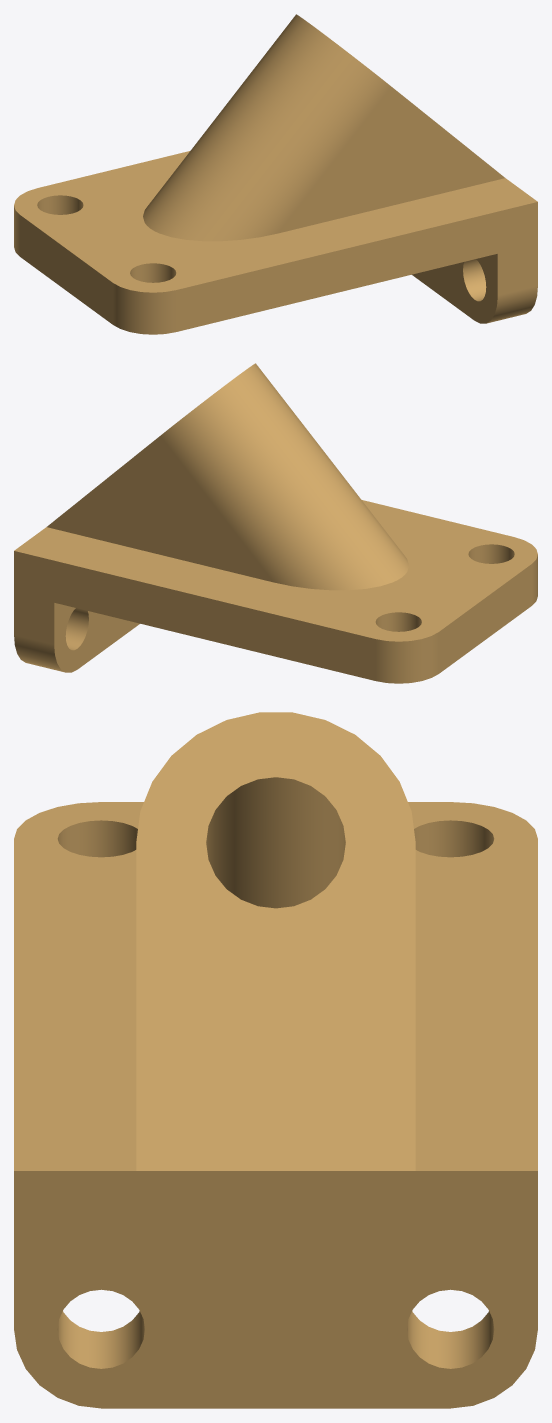
The model's file is Techinical Design.glb.
3 views of the same model, one above another, from view 1: azimuth 30°, elevation 25°; view 2: azimuth 150°, elevation 25°; view 3: azimuth 270°, elevation 25° (orthographic). The views are drawn at different scales.
Visible parts, largest first — view 1: Techinical Design; view 2: Techinical Design; view 3: Techinical Design.
Boxes of the visible parts, x1,y1,x2,y2 form: Techinical Design: (14,14,537,334); Techinical Design: (14,363,537,683); Techinical Design: (14,712,537,1408).
Bounding box in the file's own units: 5 × 3.48 × 3.
